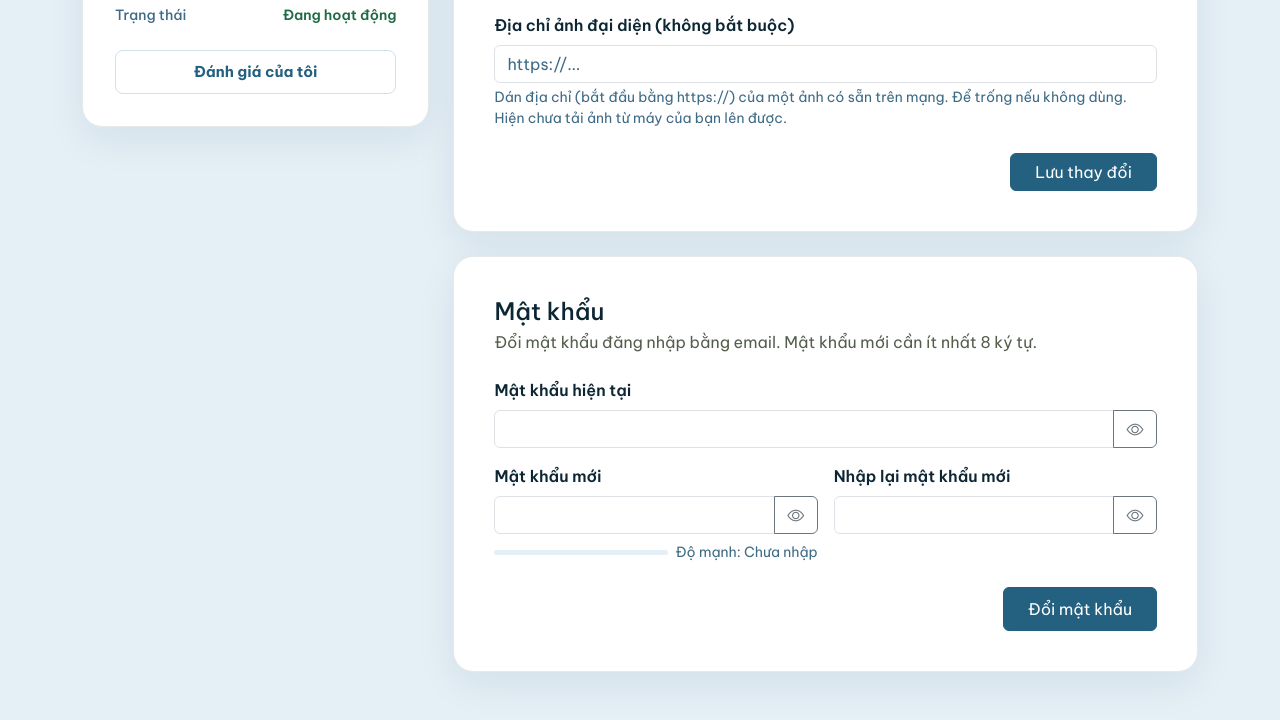
ProfileView: khung mật khẩu › hiện lỗi từ máy chủ khi mật khẩu hiện tại sai
This screenshot has width=1280, height=720.
(page scrolled)
Type "Sai" into the password field with id "current-password" at (804, 429), box [494,410,1114,448]
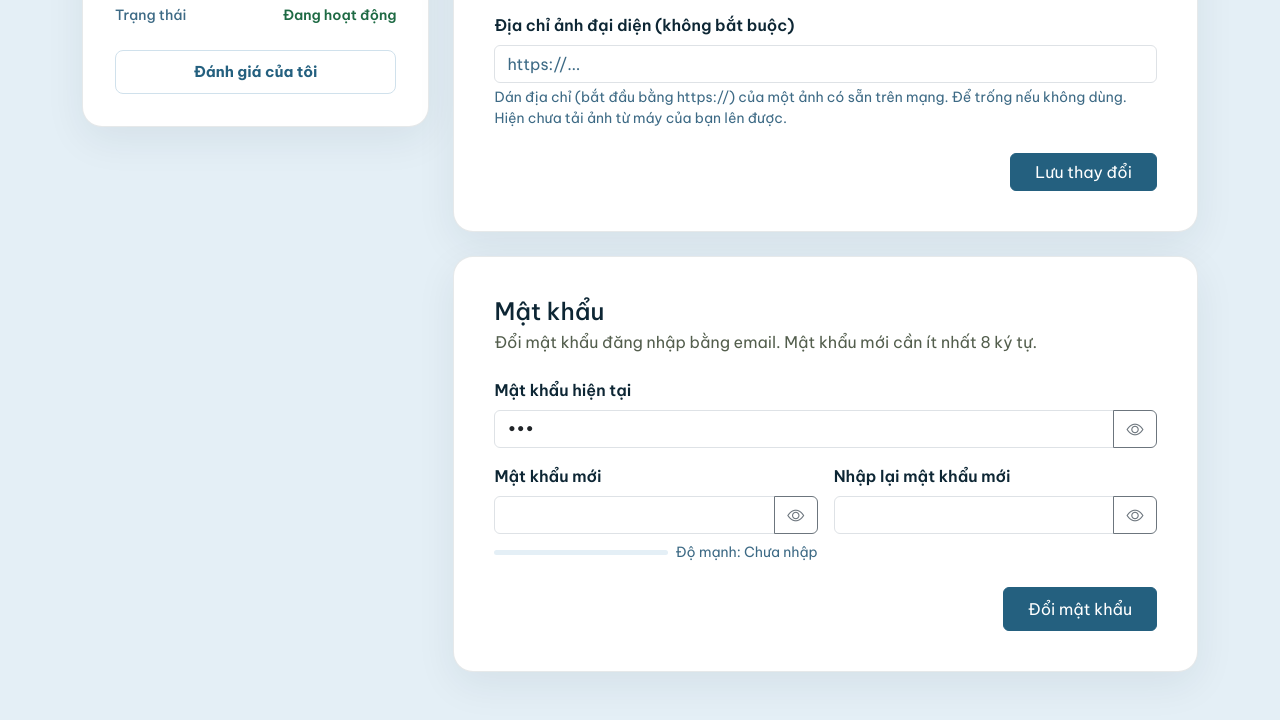
Type "MatKhauMoi456" into the password field with id "new-password" at (635, 515), box [494,496,775,534]
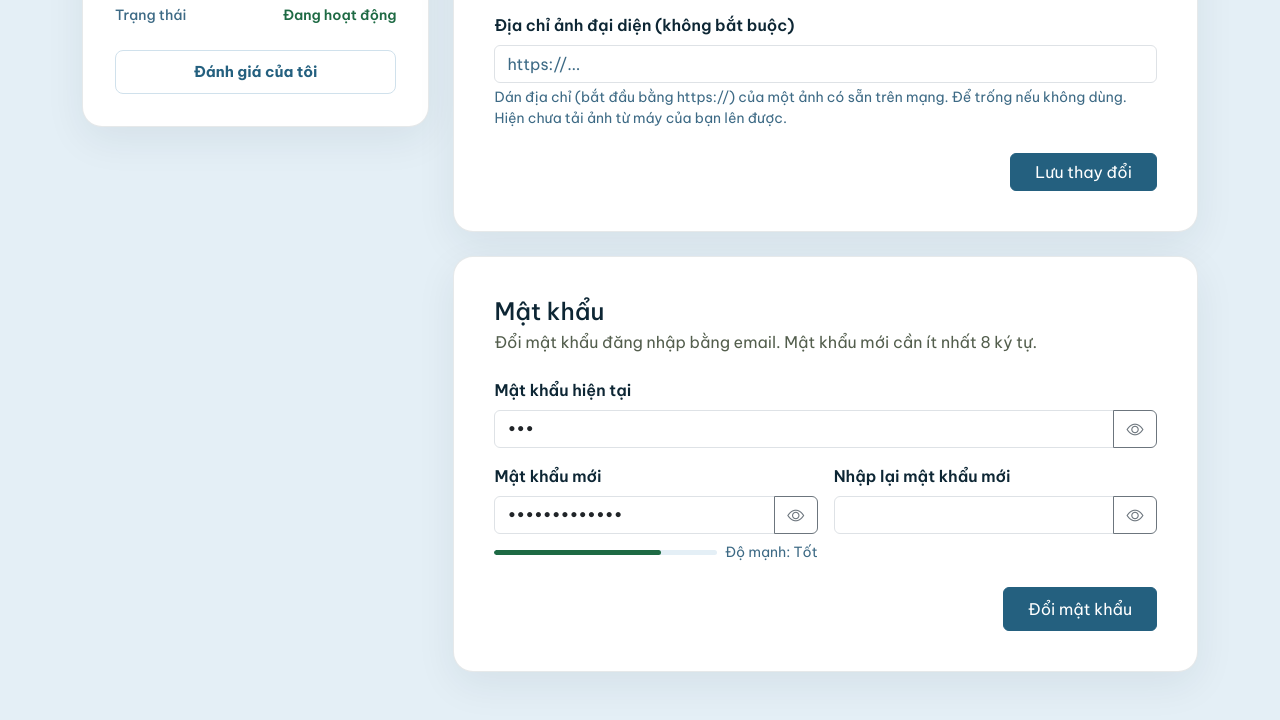
Type "MatKhauMoi456" into the password field with id "new-password-confirmation" at (974, 515), box [834,496,1114,534]
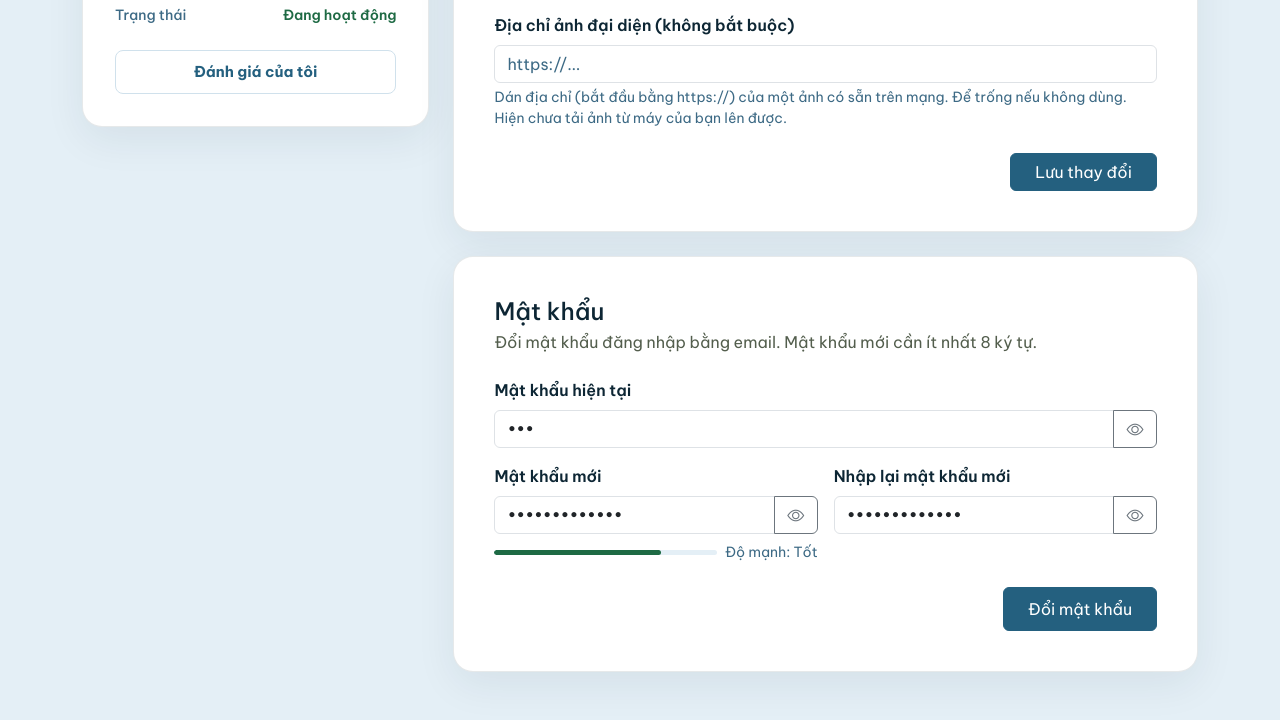
Submit the form that starts with "Mật khẩu hiện tại", box [494,378,1157,631]
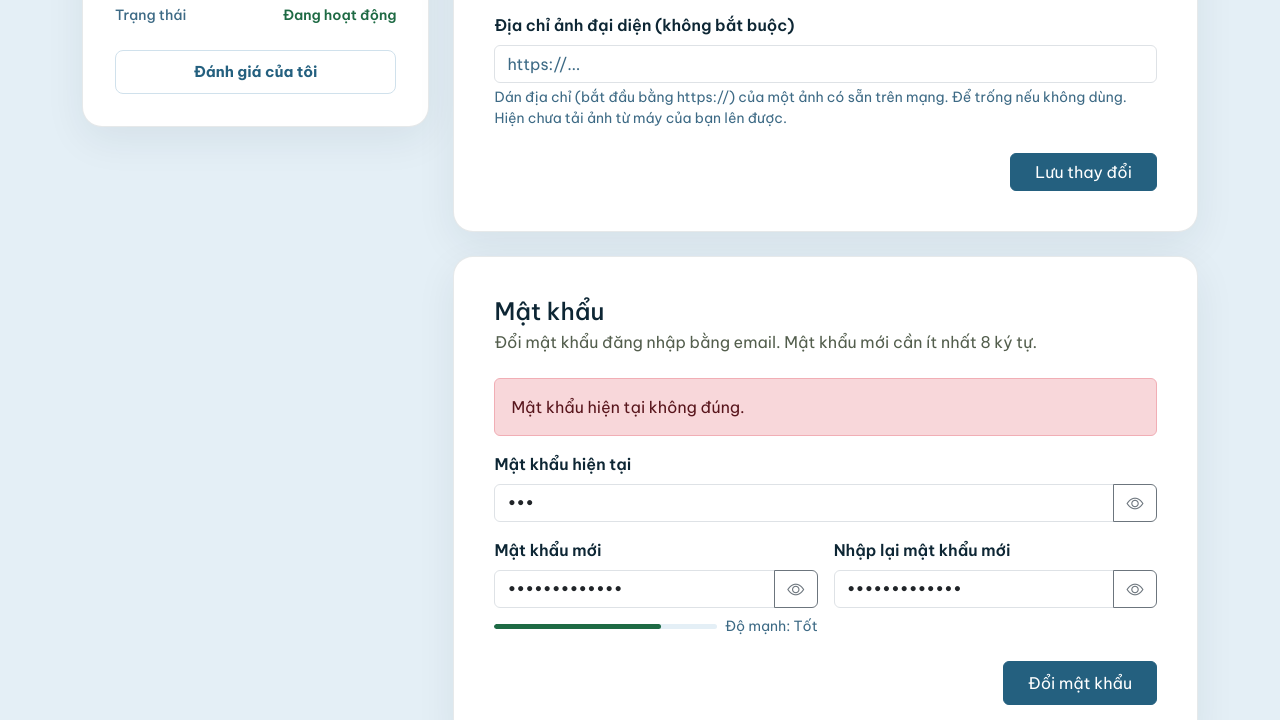
Now the message "Mật khẩu hiện tại không đúng." is shown, box [494,378,1157,436]
